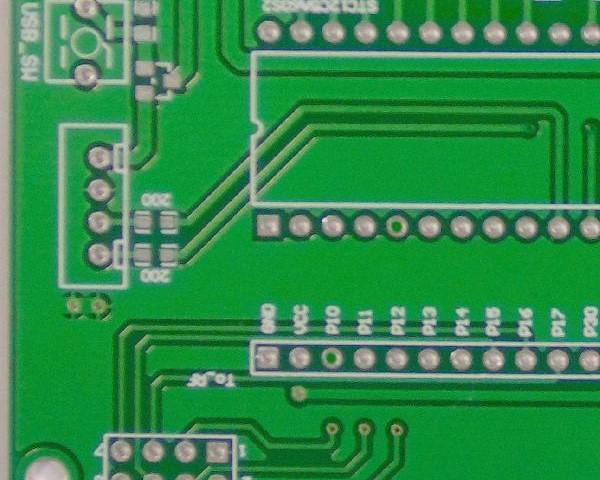missing hole: (319, 342, 349, 373), (383, 213, 414, 241)
